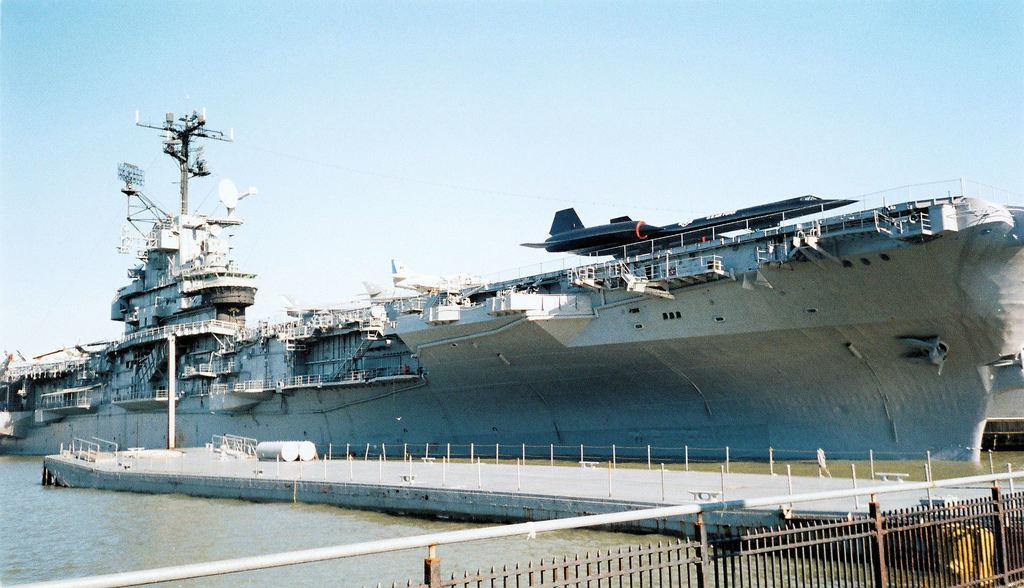Warship: (0, 119, 1020, 467)
